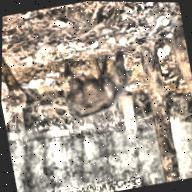boar: (55, 48, 134, 124)
